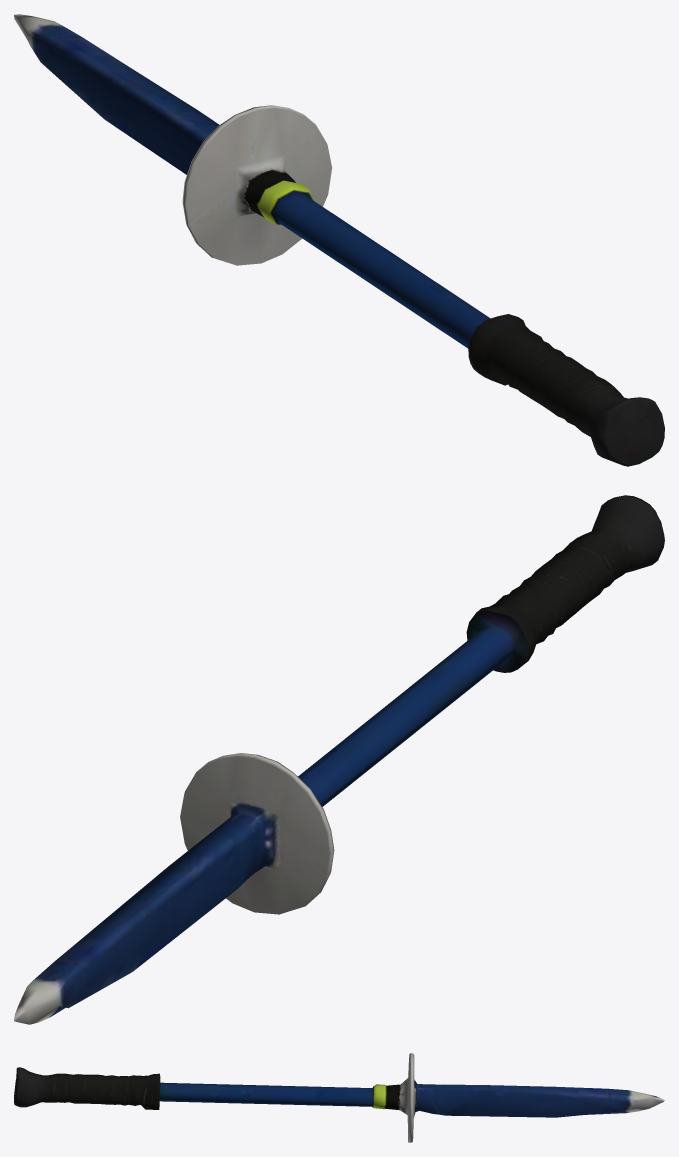
Rendered from m_lance.fbx.
3 views of the same model, one above another, from view 1: azimuth 30°, elevation 25°; view 2: azimuth 150°, elevation 25°; view 3: azimuth 270°, elevation 25° (orthographic). The views are drawn at different scales.
Visible parts, largest first — view 1: tripo_node_078bb62d-2131-4771-8ae8-e85636868a44; view 2: tripo_node_078bb62d-2131-4771-8ae8-e85636868a44; view 3: tripo_node_078bb62d-2131-4771-8ae8-e85636868a44.
Part boxes in pixels (x1,y1,x2,y2): tripo_node_078bb62d-2131-4771-8ae8-e85636868a44: (14, 14, 664, 466); tripo_node_078bb62d-2131-4771-8ae8-e85636868a44: (14, 495, 664, 1024); tripo_node_078bb62d-2131-4771-8ae8-e85636868a44: (14, 1053, 664, 1142).
Bounding box in the file's own units: 0.3953 × 0.3925 × 2.84.
Materials: 1 (1 with a texture image).
